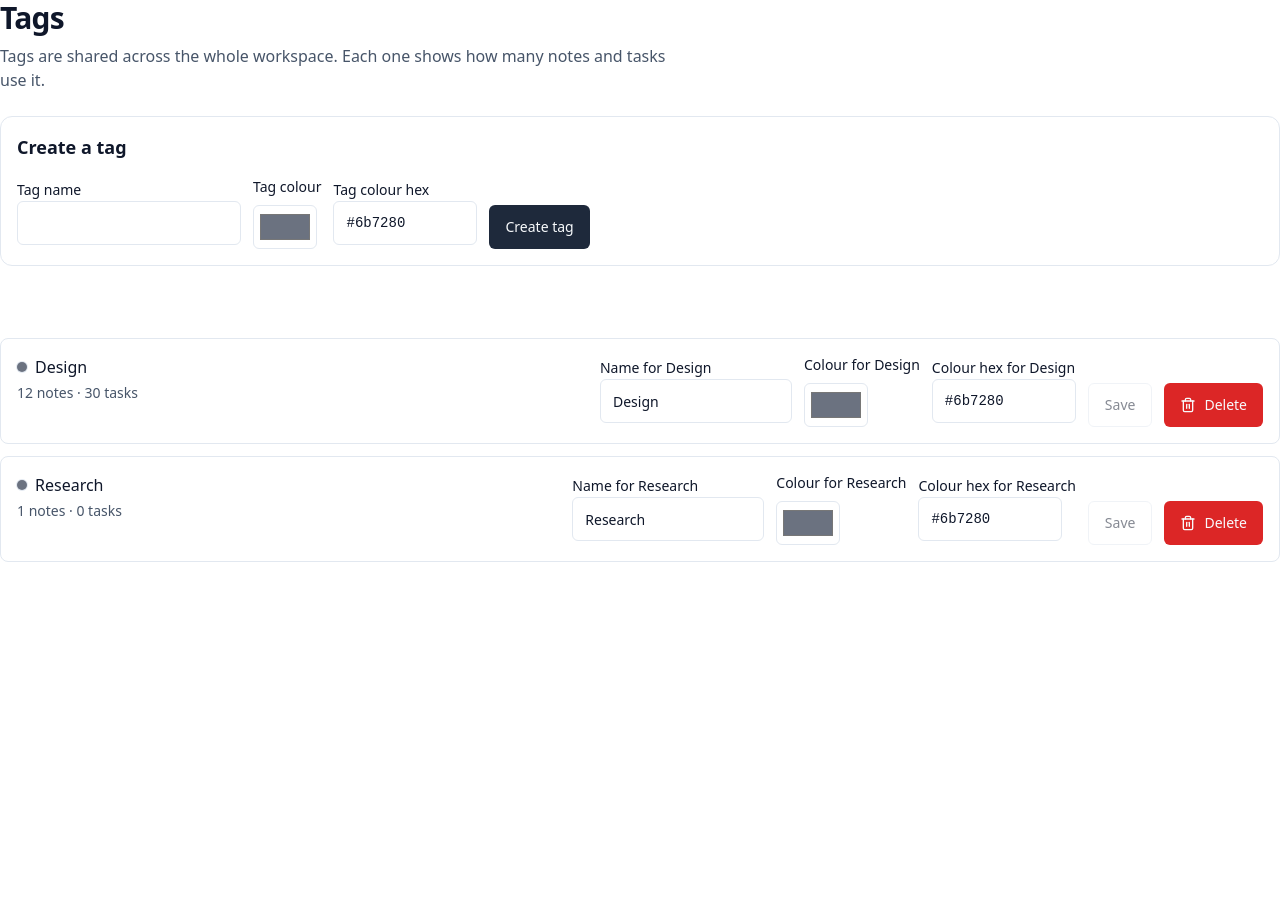
Test: TagManager › states both note and task usage in the delete confirmation
The image size is (1280, 900).
Click the button "Delete" below "Colour hex for Design". click: (1214,405)
box: [1164, 383, 1263, 427]
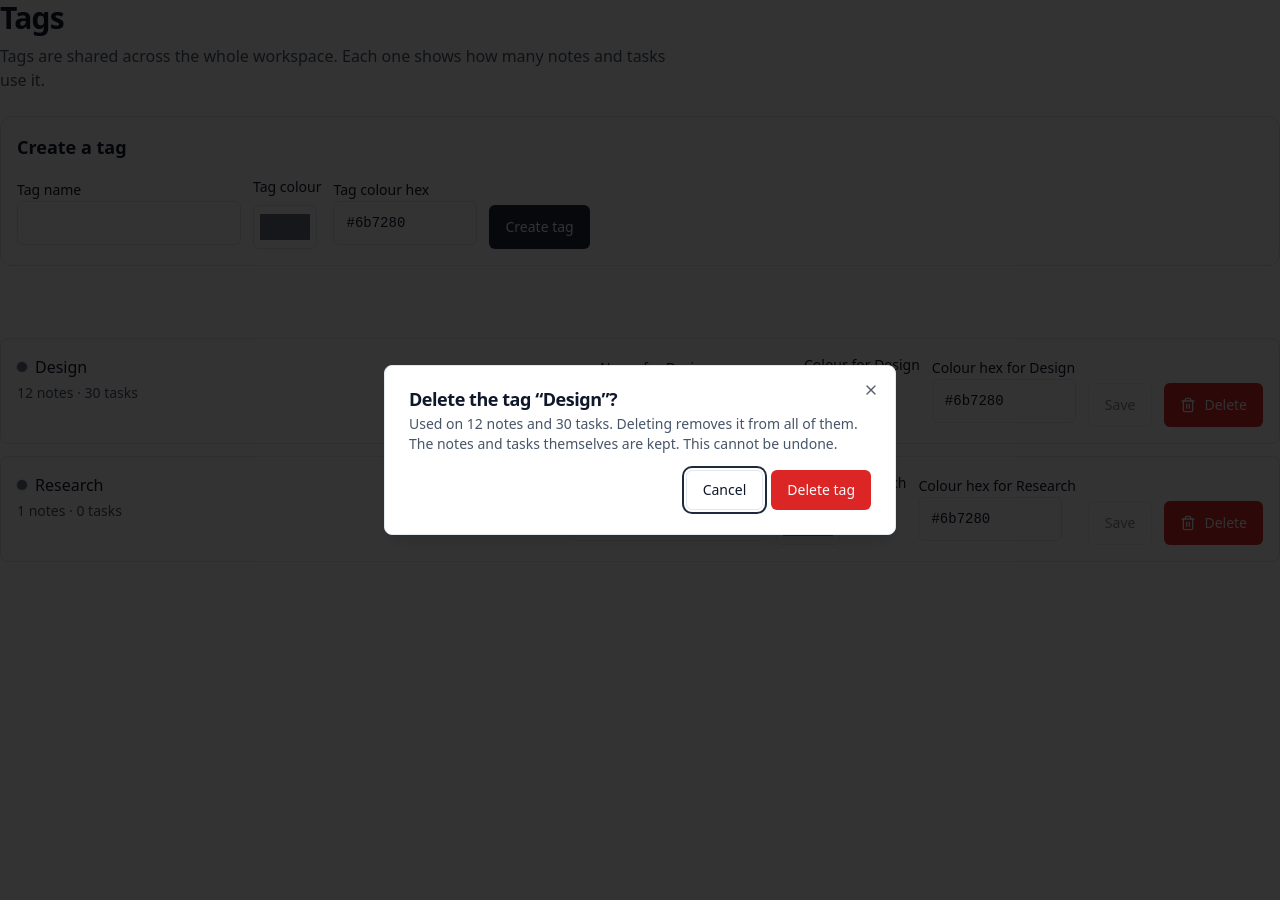
Check: the text "Used on 12 notes and 30 tasks" is shown, box [409, 414, 871, 454]
